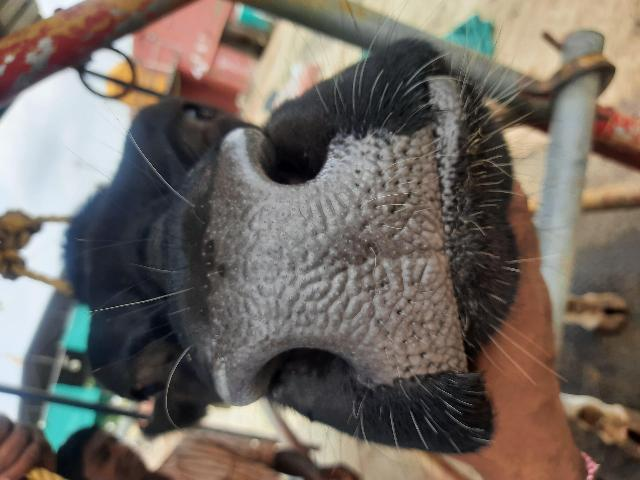Muzzle: (218, 188, 448, 330)
